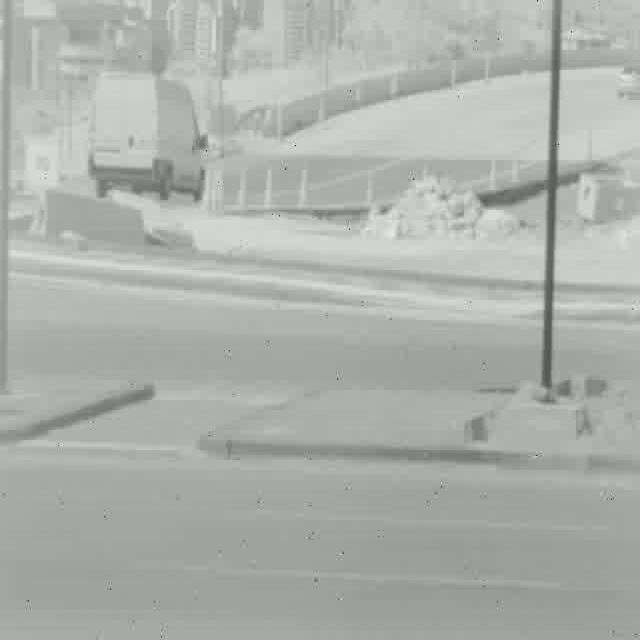Car: (88, 74, 206, 207), (614, 62, 640, 103)
